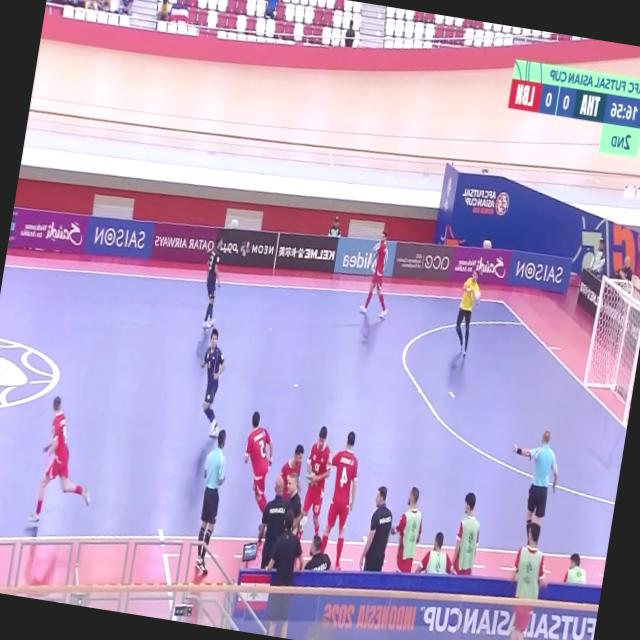keeper: (455, 270, 478, 356)
referee: (513, 432, 557, 537), (195, 430, 225, 574)
